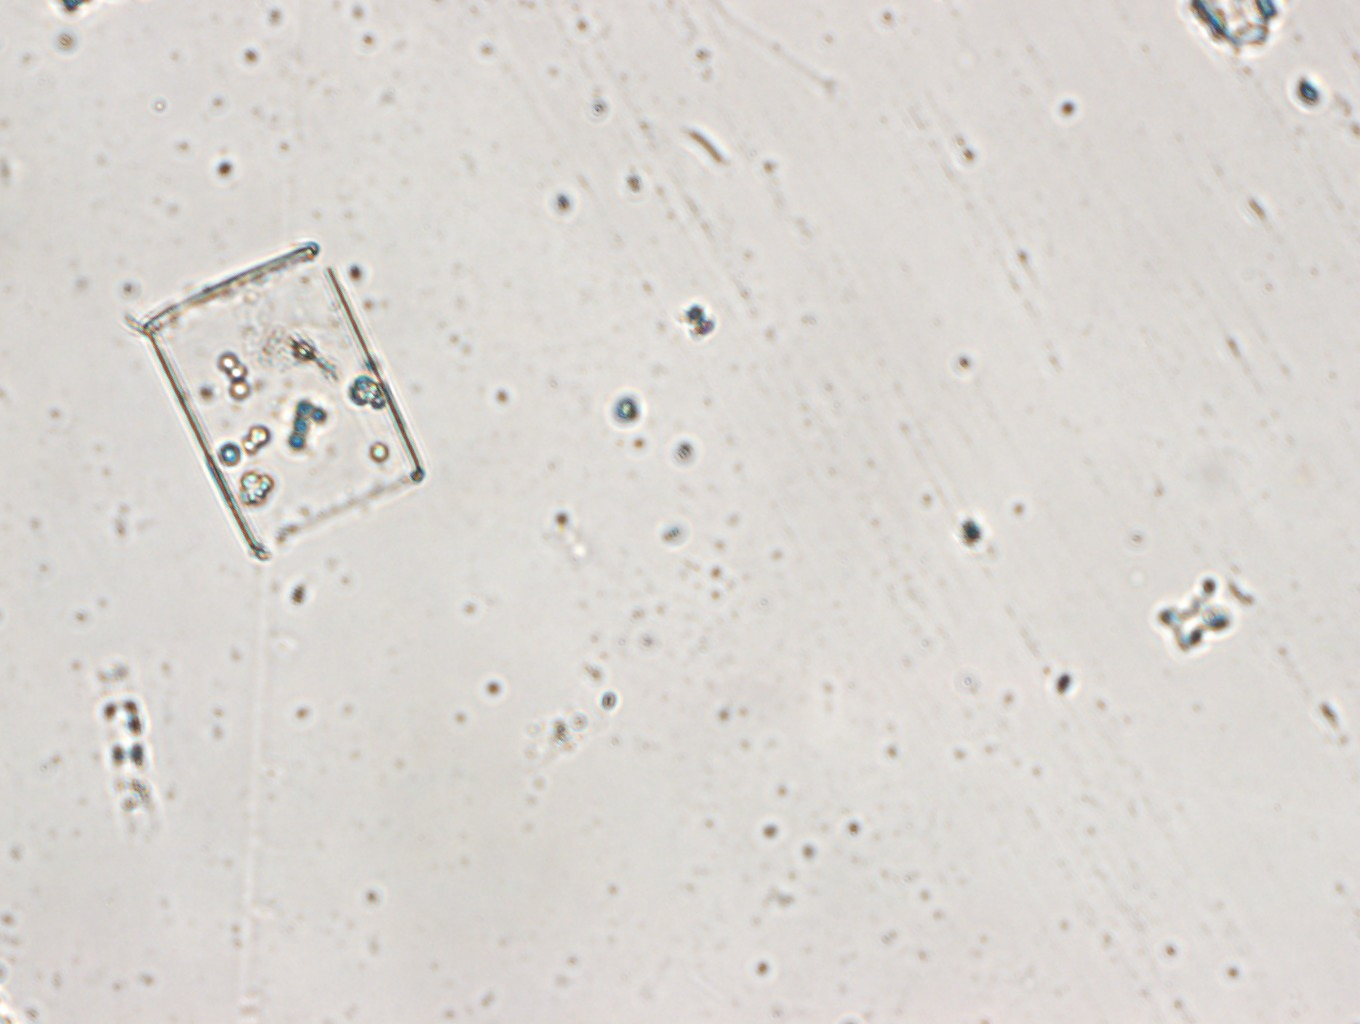guinardia flaccida: (133, 233, 427, 564)
